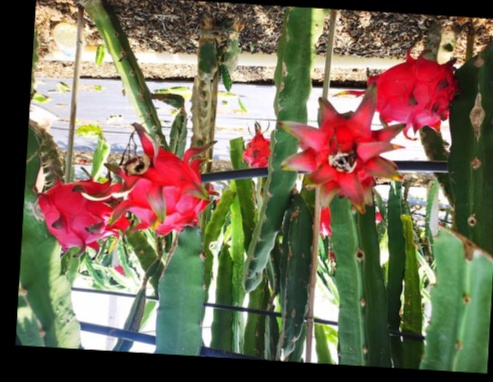pitaya: (281, 105, 399, 205), (361, 58, 456, 130), (125, 155, 205, 236), (38, 183, 132, 249), (242, 131, 271, 170), (310, 206, 340, 241)
